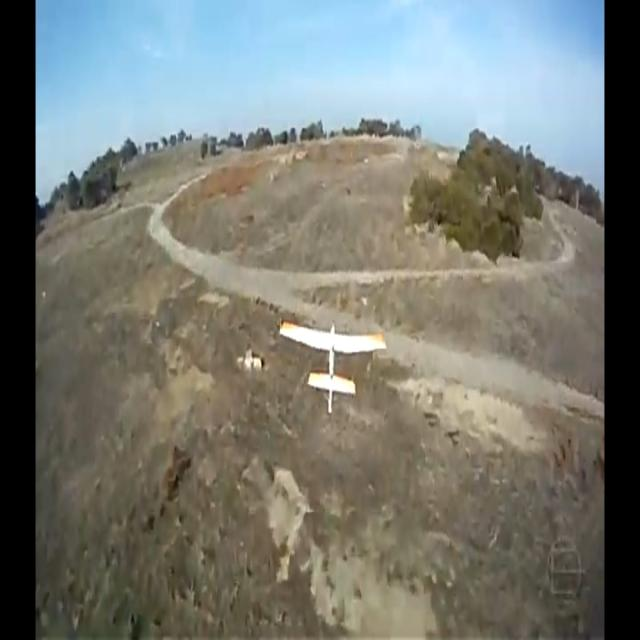iha: (304, 345, 348, 388)
